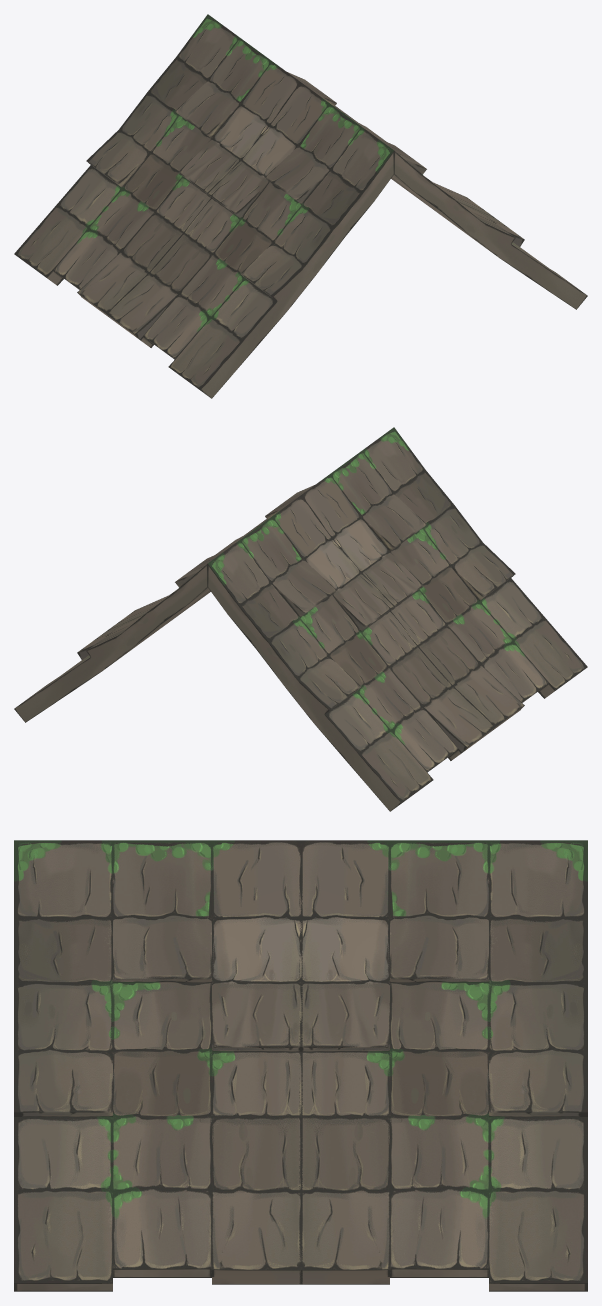
Rendered from polysurface580_txt_toit_0_lev1_lev2.glb.
3 views of the same model, one above another, from view 1: azimuth 30°, elevation 25°; view 2: azimuth 150°, elevation 25°; view 3: azimuth 270°, elevation 25° (orthographic). The views are drawn at different scales.
Parts seen in each view (by area): view 1: polysurface580_txt_toit_0_lev1_lev2; view 2: polysurface580_txt_toit_0_lev1_lev2; view 3: polysurface580_txt_toit_0_lev1_lev2.
Boxes of the visible parts, x1,y1,x2,y2 form: polysurface580_txt_toit_0_lev1_lev2: [14, 14, 587, 398]; polysurface580_txt_toit_0_lev1_lev2: [14, 427, 587, 811]; polysurface580_txt_toit_0_lev1_lev2: [14, 840, 587, 1291].
Bounding box in the file's own units: 7.37 × 3.68 × 6.1.
1 material, 1 textured.
